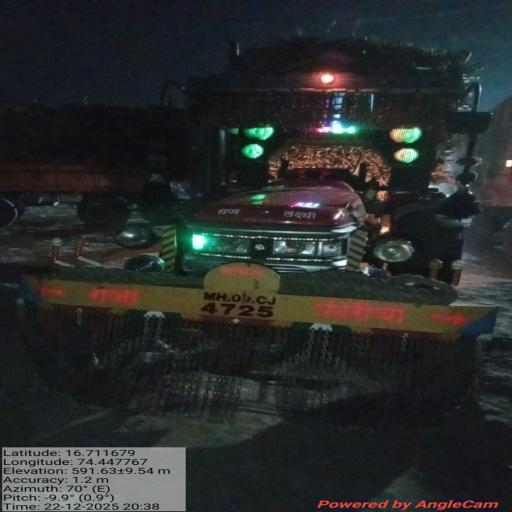number_plate: (180, 286, 319, 329)
